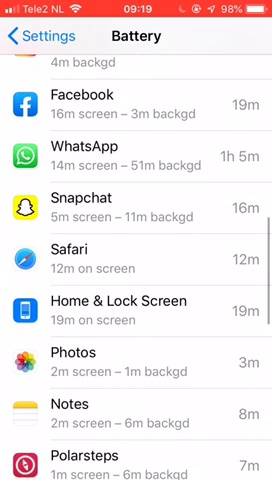app: (13, 134, 265, 180), (14, 183, 266, 229), (13, 234, 265, 280), (12, 289, 264, 335), (13, 339, 265, 385), (9, 391, 261, 437)
